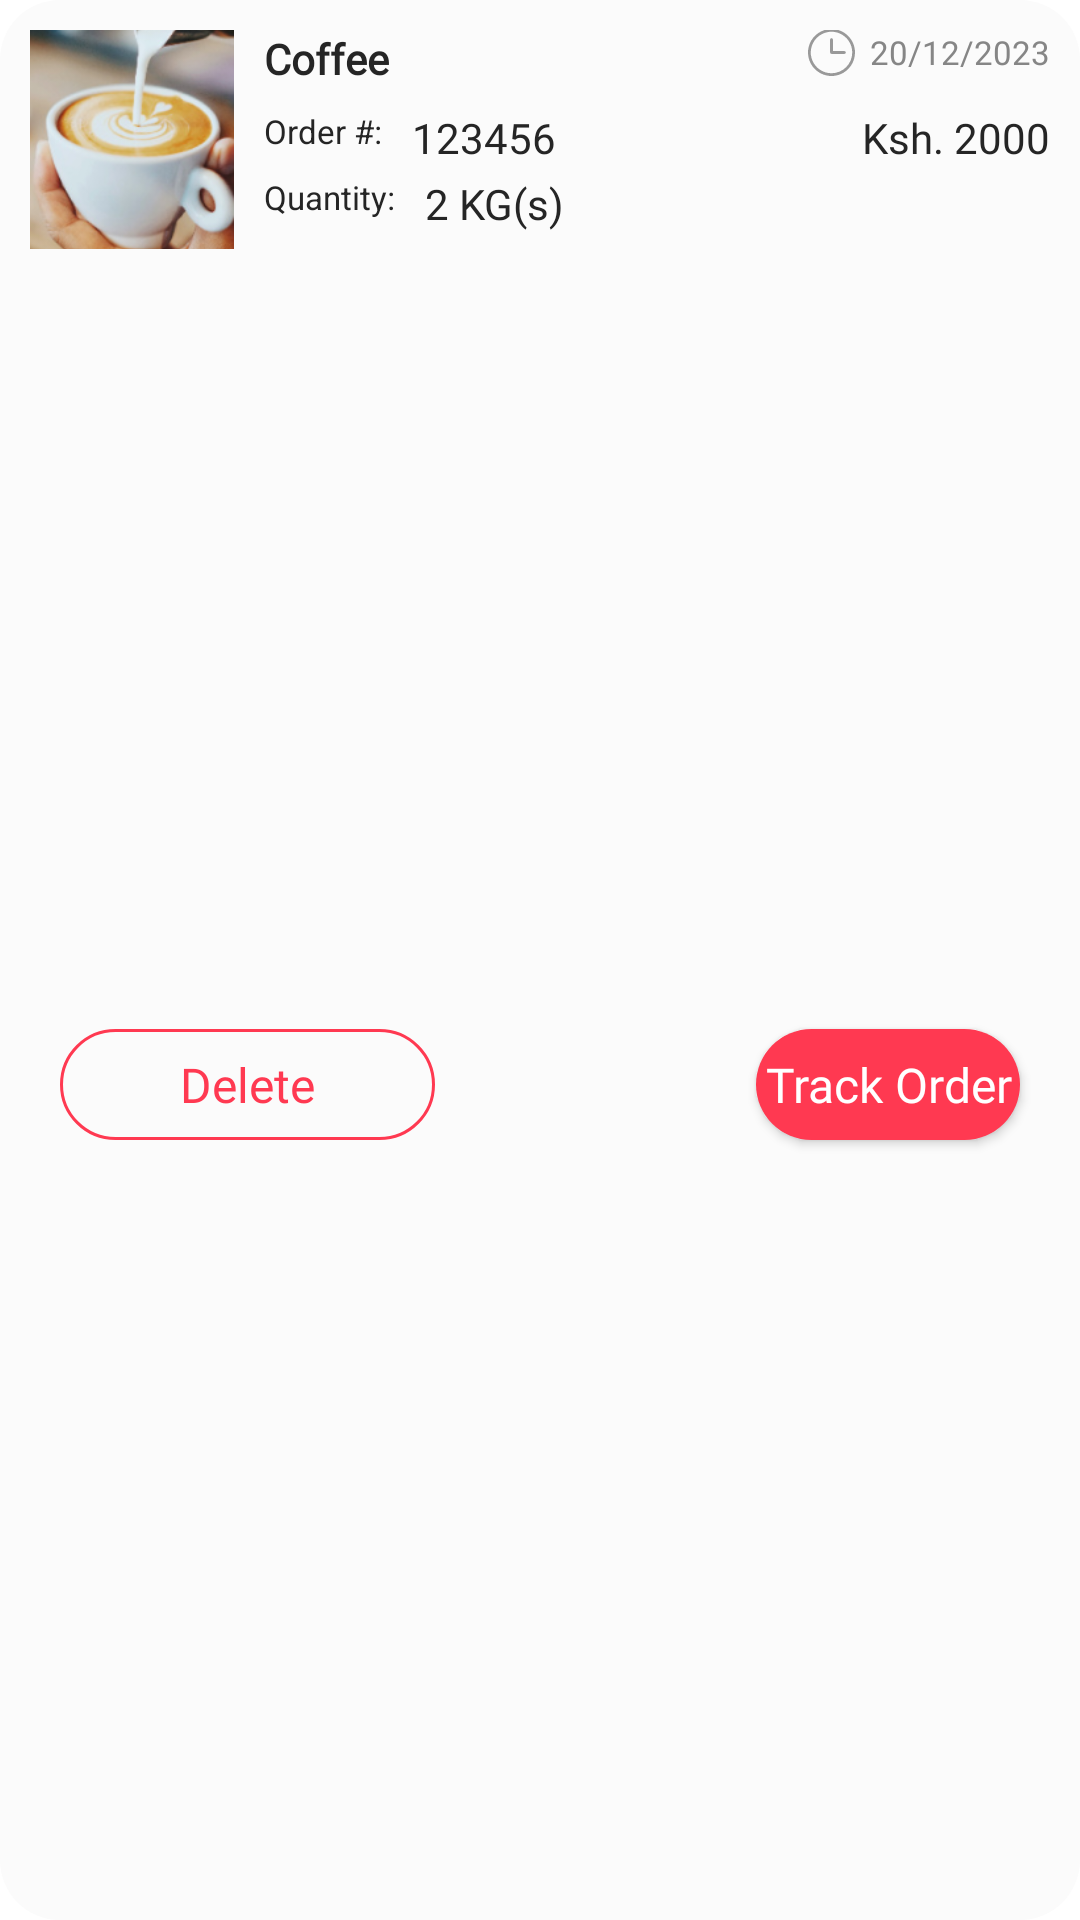

Named icons in this screenshot (1080 × 1920) and their centers, point (x, y):
clock: point (831, 53)
